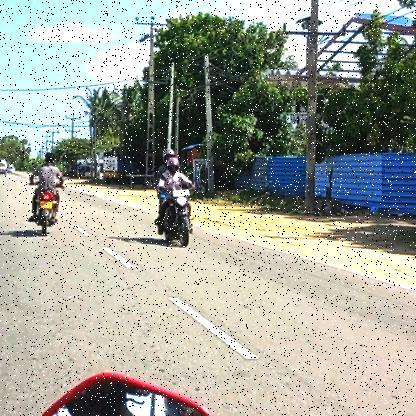motorcycle: (152, 187, 200, 252), (25, 187, 63, 238)
